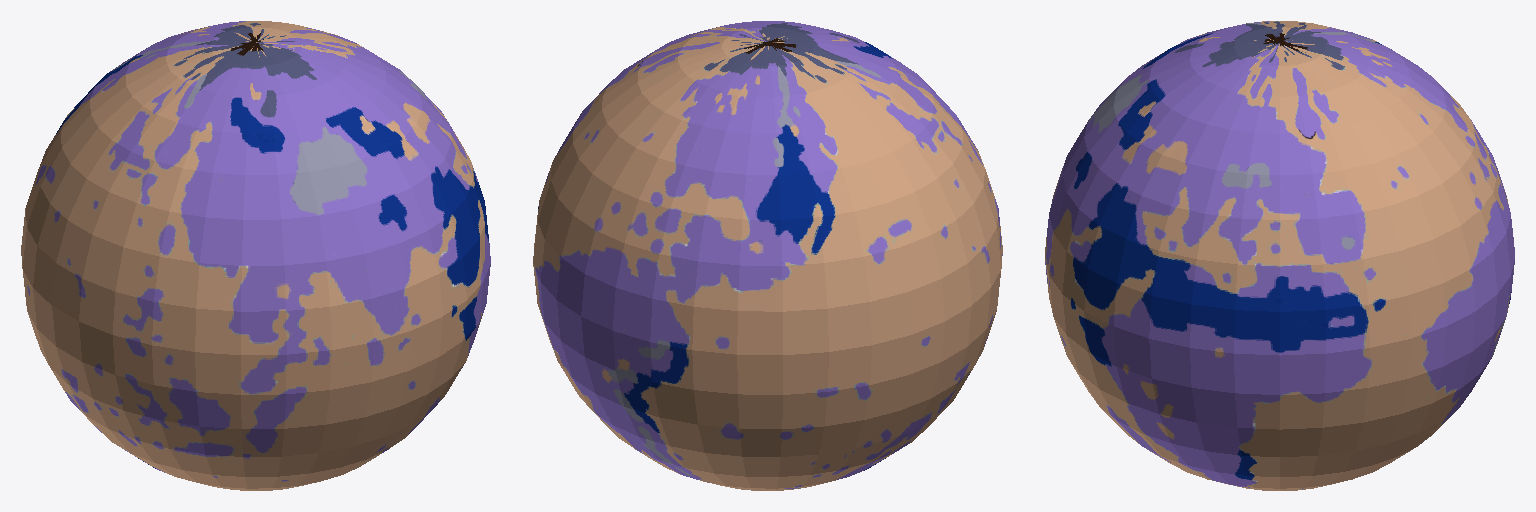
The picture shows the model from 3 angles: view 1: azimuth 30°, elevation 25°; view 2: azimuth 150°, elevation 25°; view 3: azimuth 270°, elevation 25°; orthographic projection.
Visible parts, largest first — view 1: 球; view 2: 球; view 3: 球.
Part boxes in pixels (x1,y1,x2,y2): 球: (21,21,490,490); 球: (533,21,1002,490); 球: (1045,21,1514,490).
Bounding box in the file's own units: 400 × 400 × 400.
1 materials, 1 textured.